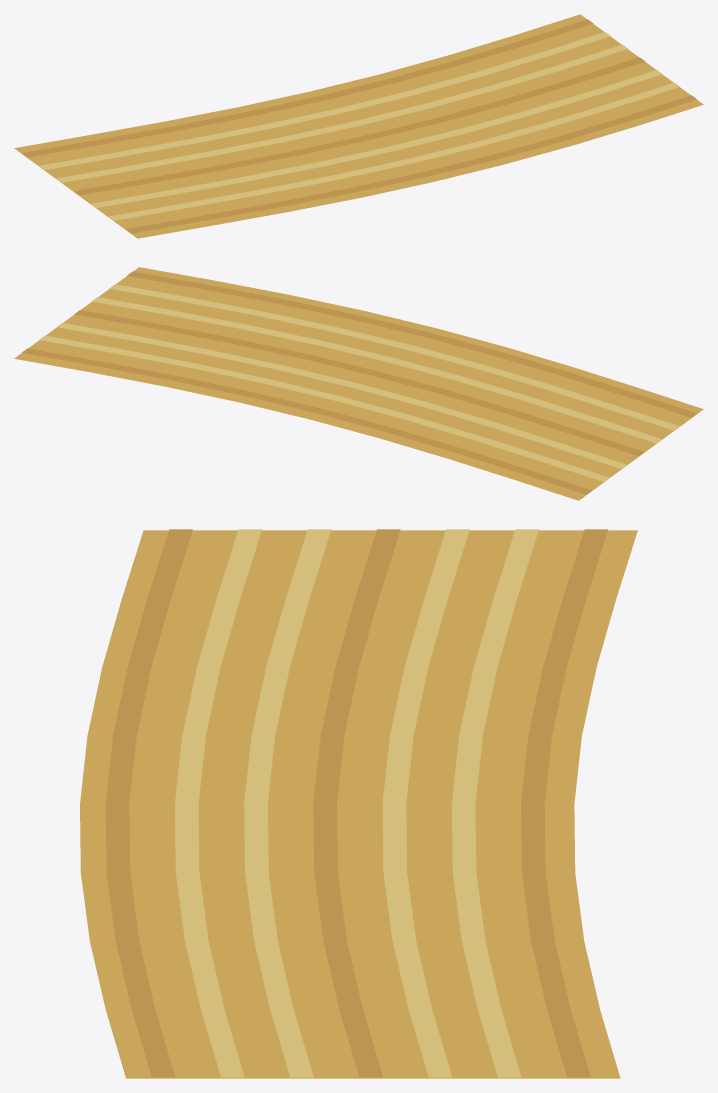
File: Parcelle_7.fbx
3 renders of one model, top to bottom at view 1: azimuth 30°, elevation 25°; view 2: azimuth 150°, elevation 25°; view 3: azimuth 270°, elevation 25°, orthographic. The views are drawn at different scales.
Parts seen in each view (by area): view 1: Parcelle_7; view 2: Parcelle_7; view 3: Parcelle_7.
Part boxes in pixels (left/top/right/bottom): Parcelle_7: left=14, top=14, right=703, bottom=238; Parcelle_7: left=14, top=267, right=703, bottom=500; Parcelle_7: left=80, top=529, right=637, bottom=1078.
Bounding box in the file's own units: 2100 × 1.7 × 903.
Materials: 1 (1 with a texture image).
